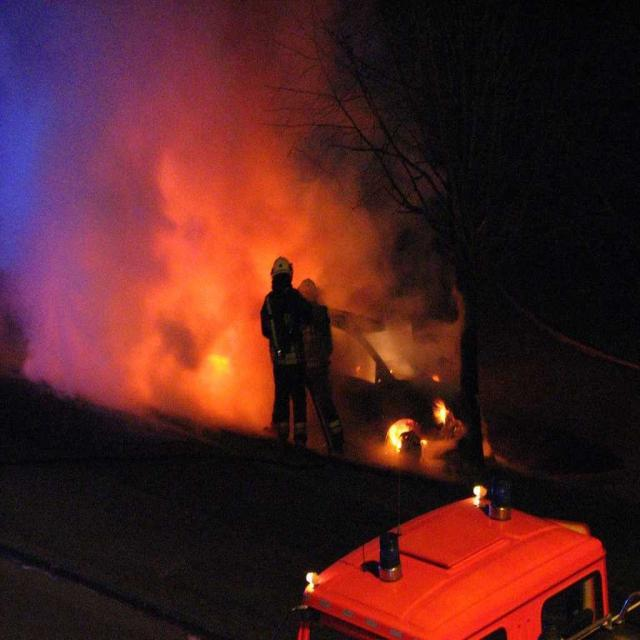Fire: (382, 418, 402, 442), (438, 406, 453, 428)
